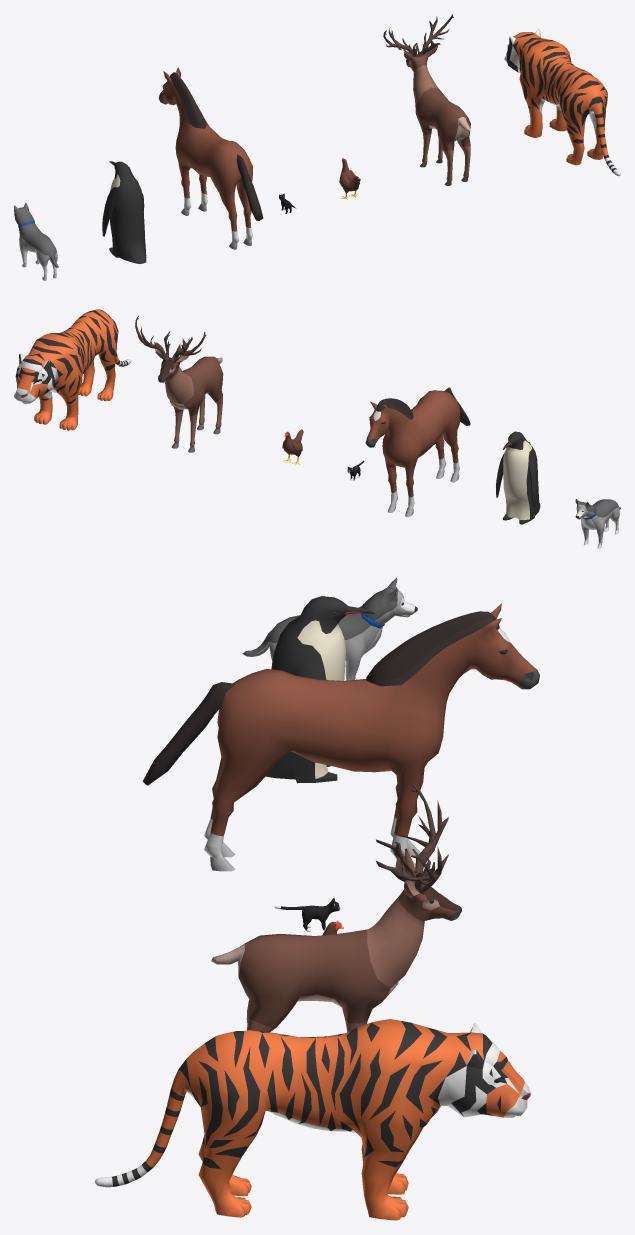
File: Animals.glb
The picture shows the model from 3 angles, top to bottom: view 1: azimuth 30°, elevation 25°; view 2: azimuth 150°, elevation 25°; view 3: azimuth 270°, elevation 25°; orthographic projection. The views are drawn at different scales.
Parts seen in each view (by area): view 1: tiger_001, horse_001, deer_001, pinguin_001, dog_001, chicken_001; view 2: tiger_001, horse_001, deer_001, pinguin_001, dog_001, chicken_001; view 3: tiger_001, horse_001, deer_001, pinguin_001, dog_001.
Boxes of the visible parts, x1=… form: tiger_001: x1=504, y1=29, x2=620, y2=176; horse_001: x1=158, y1=67, x2=263, y2=249; deer_001: x1=383, y1=14, x2=470, y2=185; pinguin_001: x1=102, y1=161, x2=146, y2=263; dog_001: x1=14, y1=202, x2=58, y2=280; chicken_001: x1=339, y1=158, x2=360, y2=199; tiger_001: x1=14, y1=309, x2=131, y2=430; horse_001: x1=365, y1=387, x2=470, y2=517; deer_001: x1=135, y1=315, x2=223, y2=452; pinguin_001: x1=496, y1=431, x2=540, y2=524; dog_001: x1=575, y1=499, x2=620, y2=548; chicken_001: x1=282, y1=429, x2=303, y2=465; tiger_001: x1=95, y1=1019, x2=530, y2=1220; horse_001: x1=142, y1=603, x2=539, y2=871; deer_001: x1=211, y1=784, x2=461, y2=1032; pinguin_001: x1=266, y1=596, x2=374, y2=783; dog_001: x1=243, y1=578, x2=417, y2=680.
Bounding box in the file's own units: 8.62 × 1.97 × 2.98.
Materials: 1 (1 with a texture image).
